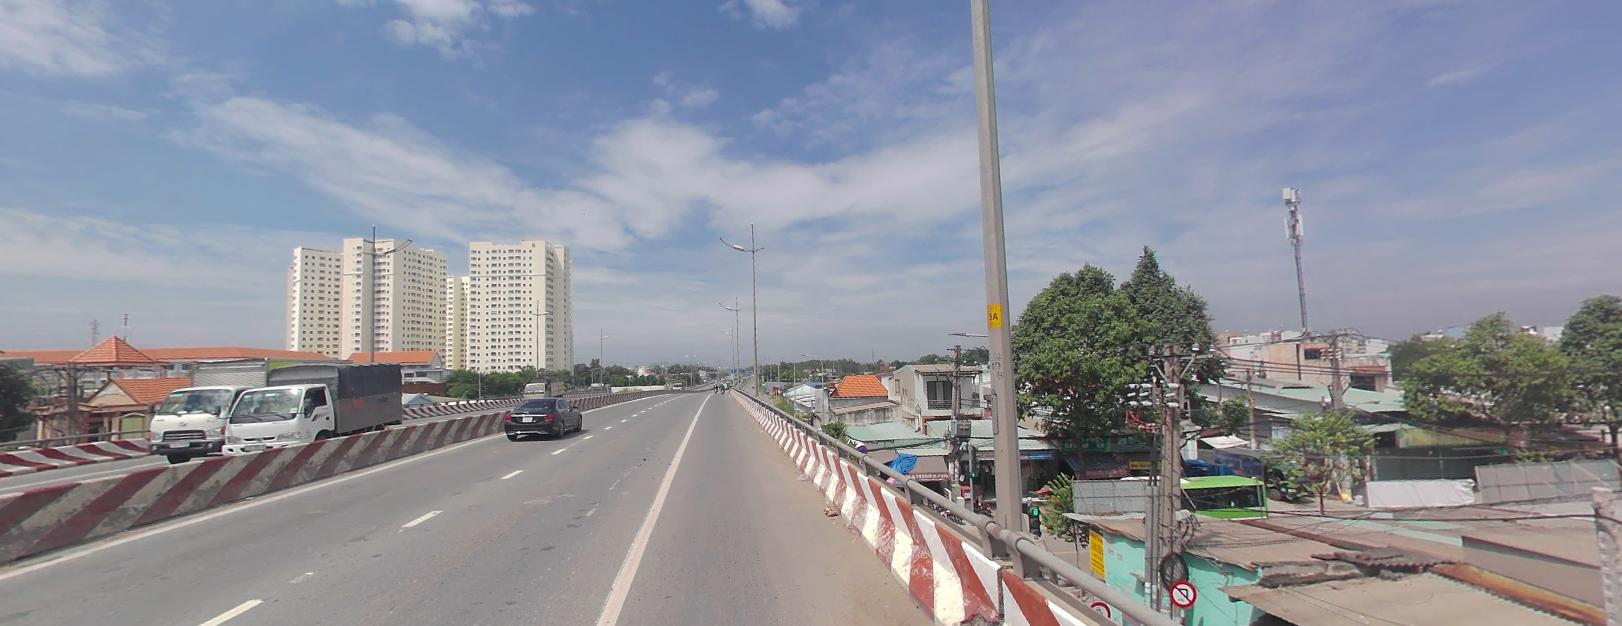Cam con lai: (1088, 600, 1110, 621)
Cam dung va do: (857, 443, 867, 454)
Cam re: (1168, 579, 1196, 608)
